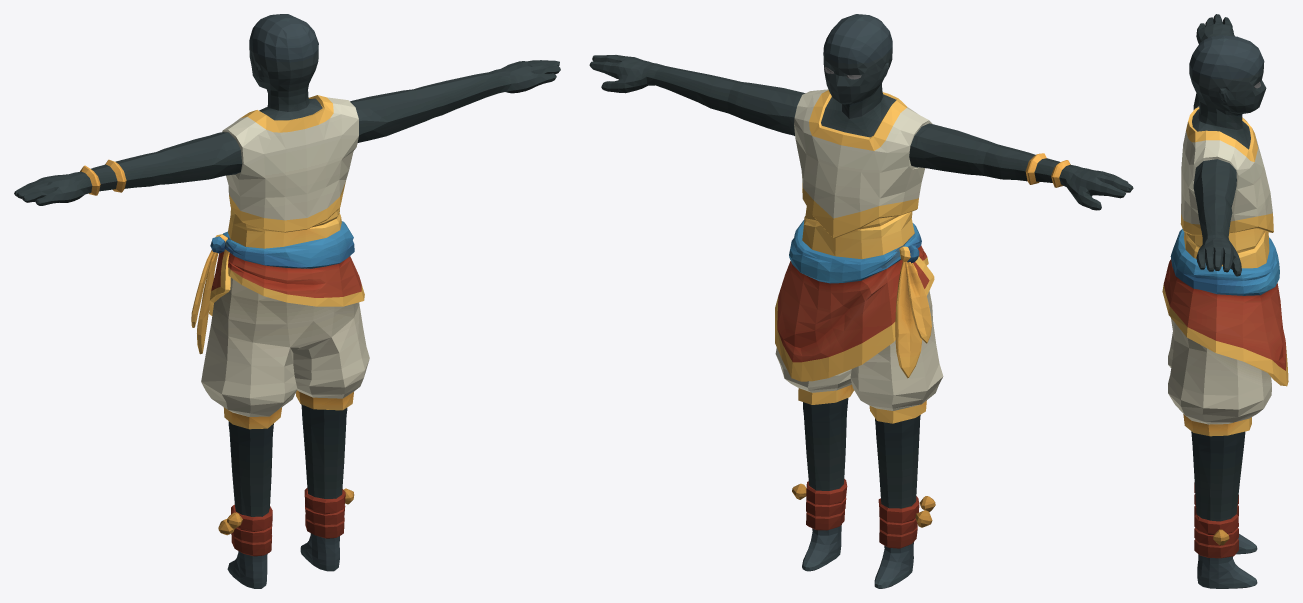
The model's file is NPC_AP28JellyShorts.glb.
The picture shows the model from 3 angles, left to right: view 1: azimuth 30°, elevation 25°; view 2: azimuth 150°, elevation 25°; view 3: azimuth 270°, elevation 25°; orthographic projection. The views are drawn at different scales.
Visible parts, largest first — view 1: NPC_AP28JellyShorts; view 2: NPC_AP28JellyShorts; view 3: NPC_AP28JellyShorts.
Part boxes in pixels (x1,y1,x2,y2): NPC_AP28JellyShorts: (14, 14, 560, 588); NPC_AP28JellyShorts: (589, 14, 1133, 588); NPC_AP28JellyShorts: (1162, 14, 1288, 588).
Size of the model in its own units: 14.03 by 13.68 by 2.96.
1 material, 1 textured.
